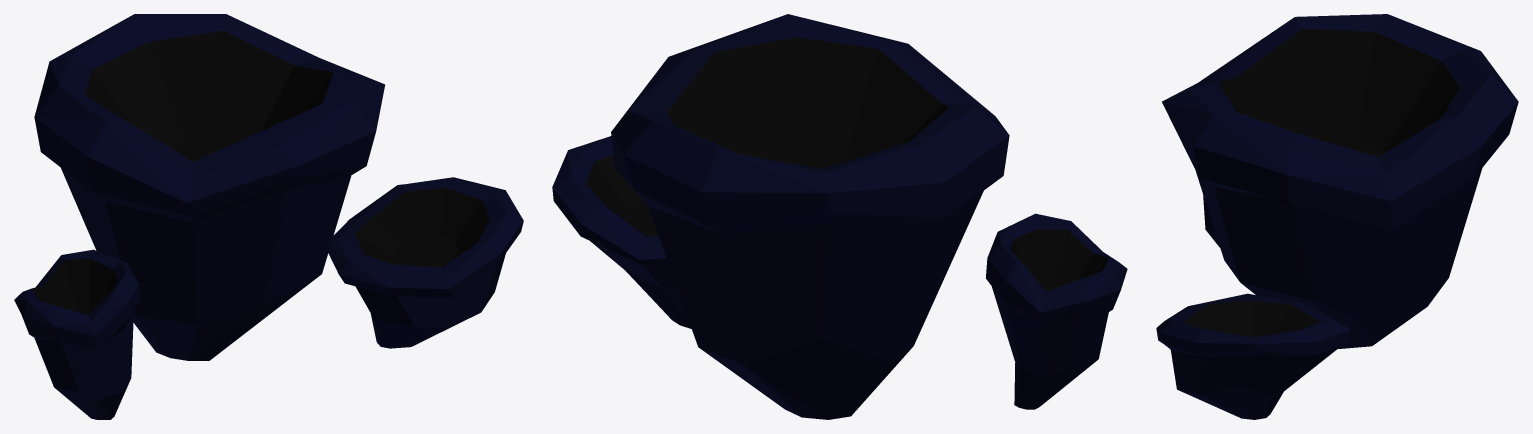
File: SM_Mushroom_02.glb
3 views of the same model, side by side, from view 1: azimuth 30°, elevation 25°; view 2: azimuth 150°, elevation 25°; view 3: azimuth 270°, elevation 25° (orthographic). The views are drawn at different scales.
Parts seen in each view (by area): view 1: SM_Mushroom_02; view 2: SM_Mushroom_02; view 3: SM_Mushroom_02.
Boxes of the visible parts, box(x1,y1,x2,y2) form: SM_Mushroom_02: box(14, 14, 523, 419); SM_Mushroom_02: box(552, 14, 1127, 419); SM_Mushroom_02: box(1156, 14, 1518, 419).
Size of the model in its own units: 0.2922 by 0.1591 by 0.191.
Materials: 1 (1 with a texture image).
